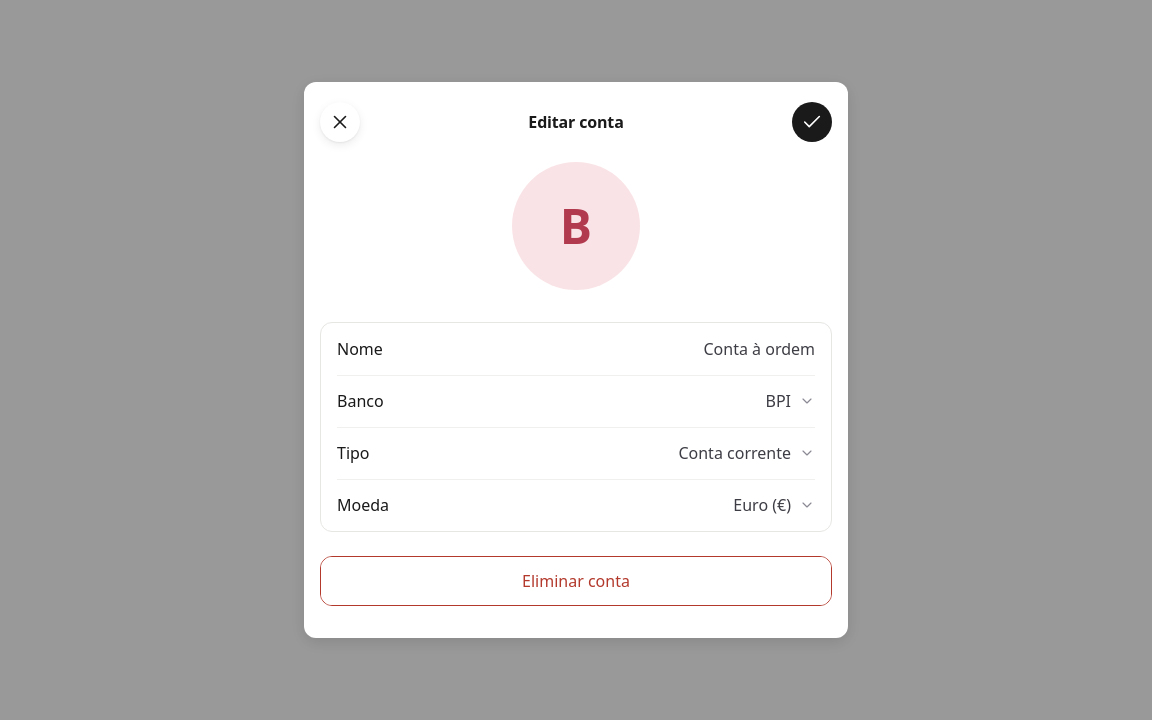
Test: Página Editar conta › se guardar falhar, mostra o erro dentro do formulário (que continua aberto)
Expected: the dialog "Editar conta" is shown, [304,82,848,638]
Click the button named "Guardar alterações".
click(812, 122)  # box [792,102,832,142]
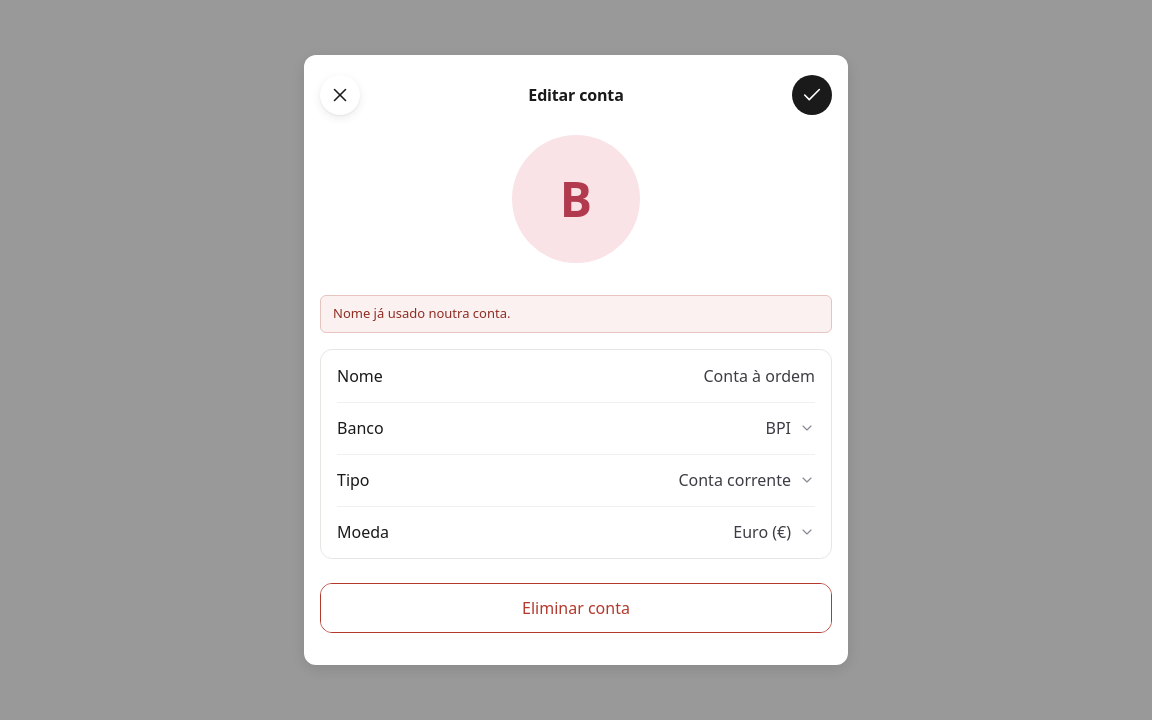
Expected: the dialog "Editar conta" is shown, [304,55,848,665]
Expected: the text "Nome já usado noutra conta." is shown, [320,295,832,333]
